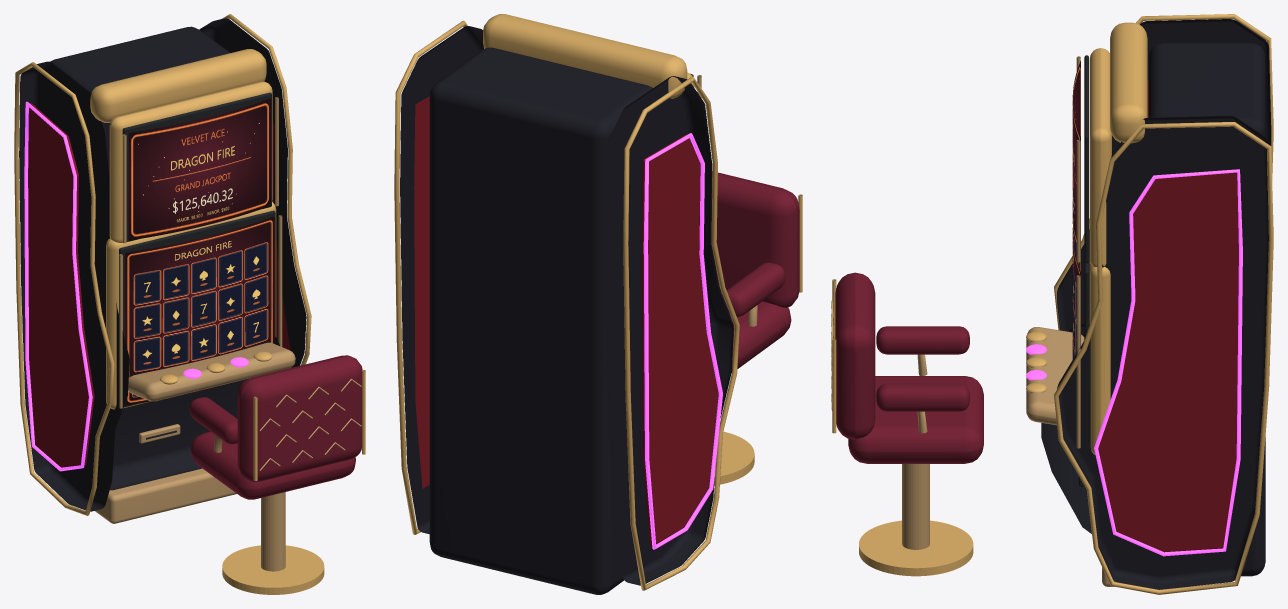
The model's file is dragon_fire_hero.glb.
3 views of the same model, side by side, from view 1: azimuth 30°, elevation 25°; view 2: azimuth 150°, elevation 25°; view 3: azimuth 270°, elevation 25° (orthographic). The views are drawn at different scales.
Parts seen in each view (by area): view 1: MAIN bowed emissive UV screen, inset ruby red dragon-side lacquer / -1, SCULPTED outer wing / -1, TOPPER bowed emissive UV screen, contoured high-end leather back, swept integral control belly, gold crown housing, structural black core, SCULPTED outer wing / 1, continuous gold contour / -1, ergonomic sloped control panel, gold foot kick (+14 smaller); view 2: structural black core, SCULPTED outer wing / -1, inset ruby red dragon-side lacquer / -1, SCULPTED outer wing / 1, contoured high-end leather back, gold crown housing, continuous gold contour / -1, inset ruby red dragon-side lacquer / 1, violet LED light-pipe / -1, continuous gold contour / 1, deep leather cushion, padded leather arm (+1 smaller); view 3: inset ruby red dragon-side lacquer / 1, SCULPTED outer wing / 1, structural black core, deep leather cushion, continuous gold contour / 1, contoured high-end leather back, SCULPTED outer wing / -1, heavy circular champagne chair base, violet LED light-pipe / 1, gold crown housing, TOPPER sculpted bezel, MAIN sculpted bezel (+11 smaller).
Part boxes in pixels (box(x1,y1,x2,y2)): MAIN bowed emissive UV screen: box(125, 216, 274, 405); inset ruby red dragon-side lacquer / -1: box(28, 103, 94, 467); SCULPTED outer wing / -1: box(19, 61, 129, 511); TOPPER bowed emissive UV screen: box(128, 98, 270, 240); contoured high-end leather back: box(237, 355, 362, 481); swept integral control belly: box(110, 336, 279, 490); gold crown housing: box(90, 49, 266, 122); structural black core: box(50, 26, 230, 175); SCULPTED outer wing / 1: box(199, 18, 306, 367); continuous gold contour / -1: box(14, 62, 114, 515); ergonomic sloped control panel: box(128, 342, 295, 401); gold foot kick: box(95, 468, 236, 523); structural black core: box(429, 47, 652, 594); SCULPTED outer wing / -1: box(605, 76, 733, 585); inset ruby red dragon-side lacquer / -1: box(641, 134, 718, 546); SCULPTED outer wing / 1: box(400, 26, 483, 534); contoured high-end leather back: box(711, 171, 799, 307); gold crown housing: box(483, 14, 687, 98); continuous gold contour / -1: box(623, 76, 739, 590); inset ruby red dragon-side lacquer / 1: box(414, 96, 429, 488); violet LED light-pipe / -1: box(643, 133, 722, 549); continuous gold contour / 1: box(394, 20, 467, 534); deep leather cushion: box(721, 291, 791, 372); padded leather arm: box(722, 262, 784, 317); inset ruby red dragon-side lacquer / 1: box(1098, 169, 1238, 552); SCULPTED outer wing / 1: box(1057, 115, 1268, 589); structural black core: box(1148, 43, 1265, 576); deep leather cushion: box(848, 376, 983, 463); continuous gold contour / 1: box(1054, 122, 1273, 594); contoured high-end leather back: box(835, 272, 875, 439); SCULPTED outer wing / -1: box(1057, 19, 1271, 331); heavy circular champagne chair base: box(859, 520, 973, 576); violet LED light-pipe / 1: box(1094, 169, 1242, 556); gold crown housing: box(1110, 22, 1147, 143); TOPPER sculpted bezel: box(1089, 48, 1111, 266); MAIN sculpted bezel: box(1089, 260, 1110, 454).
Bounding box in the file's own units: 1.15 × 2.3 × 1.89.
10 materials, 2 textured.
